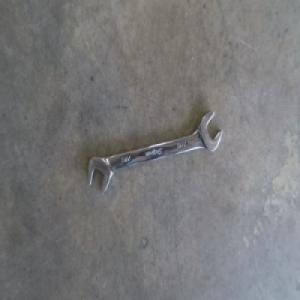Wrench: (88, 109, 222, 194)
